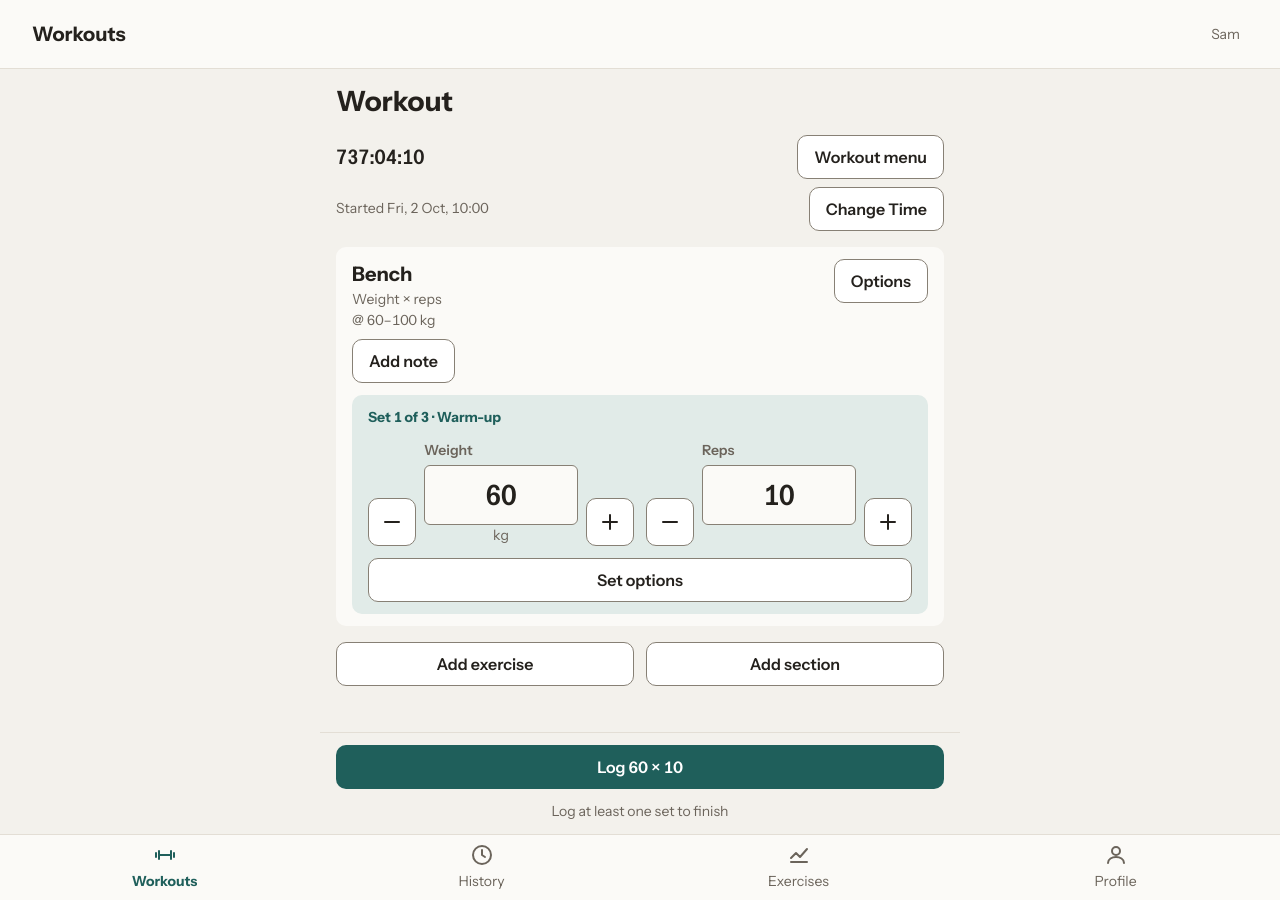
Test: 10.2 AC24 — after a log › each tap logs the next row; after the last it is 'Extra set' with the last set copied
Check: the heading "Workout" is shown, box top-left (336, 84), bottom-right (453, 118)
Step 1. Click the button "Log 60 × 10" → (640, 767), box top-left (336, 745), bottom-right (944, 789)
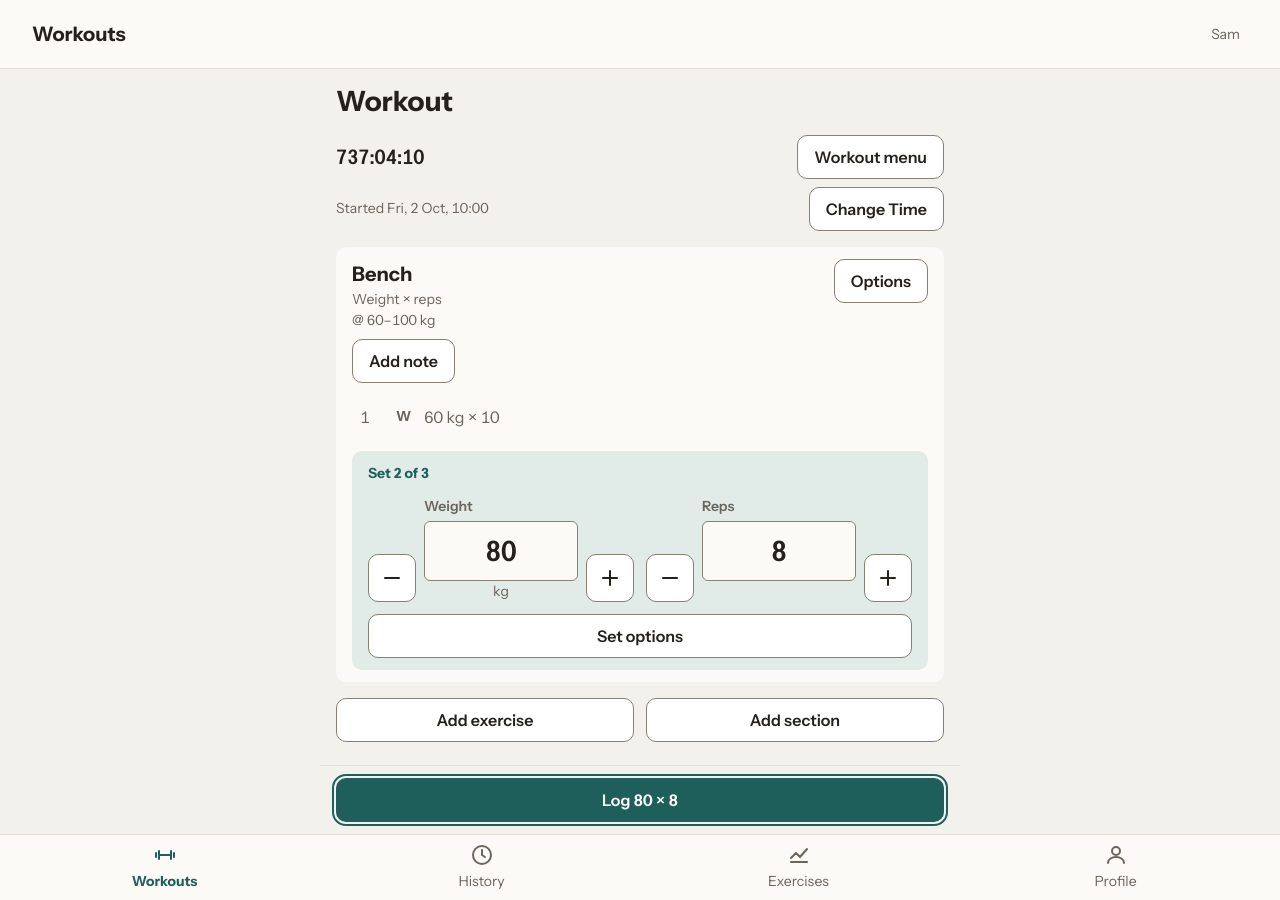
Check: the text "Set 2 of 3" is shown, box top-left (368, 463), bottom-right (429, 484)
Step 2. Click the button "Set options" → (640, 636), box top-left (368, 614), bottom-right (912, 658)
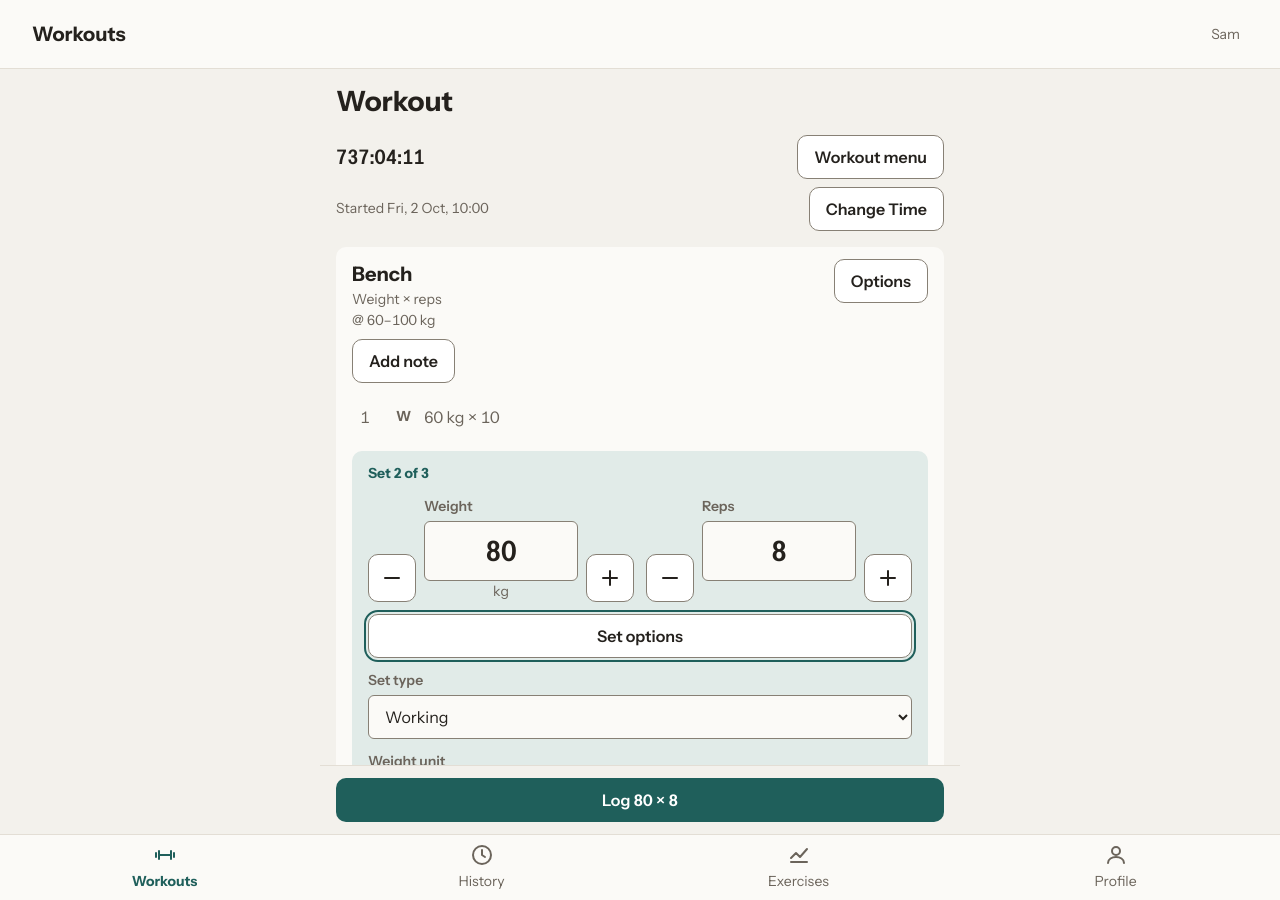
Check: the field labelled "Weight" holds "80", box top-left (424, 521), bottom-right (578, 581)
Check: the field labelled "Reps" holds "8", box top-left (702, 521), bottom-right (856, 581)
Check: the dropdown labelled "Set type" shows "Working", box top-left (368, 695), bottom-right (912, 739)
Step 3. Click the button "Log 80 × 8" → (640, 800), box top-left (336, 778), bottom-right (944, 822)
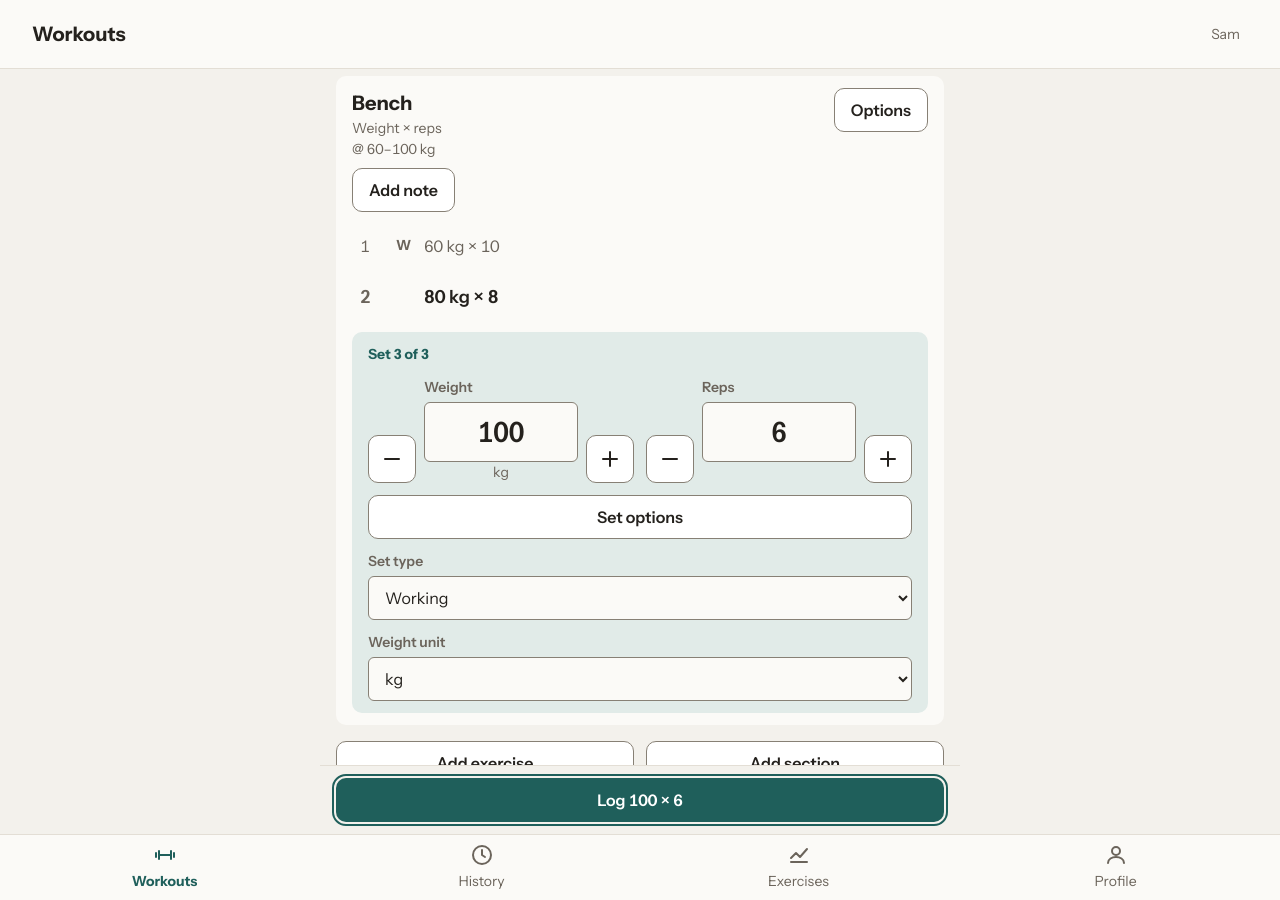
Check: the text "Set 3 of 3" is shown, box top-left (368, 344), bottom-right (429, 365)
Check: the field labelled "Weight" holds "100", box top-left (424, 402), bottom-right (578, 462)
Step 4. Click the button "Log 100 × 6" → (640, 800), box top-left (336, 778), bottom-right (944, 822)
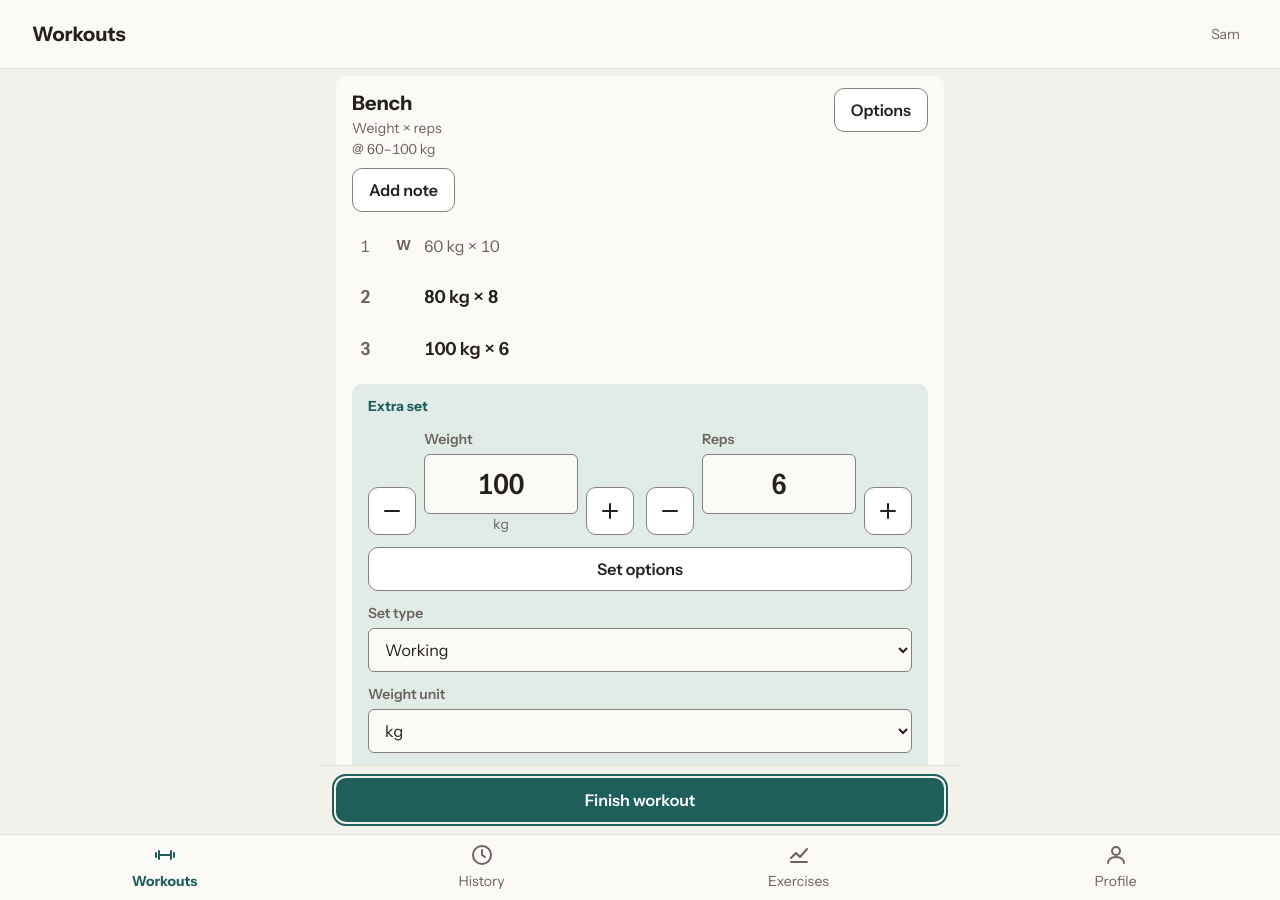
Check: the field labelled "Weight" holds "100", box top-left (424, 454), bottom-right (578, 514)
Check: the field labelled "Reps" holds "6", box top-left (702, 454), bottom-right (856, 514)
Check: the text "Extra set" is shown, box top-left (368, 396), bottom-right (428, 417)
